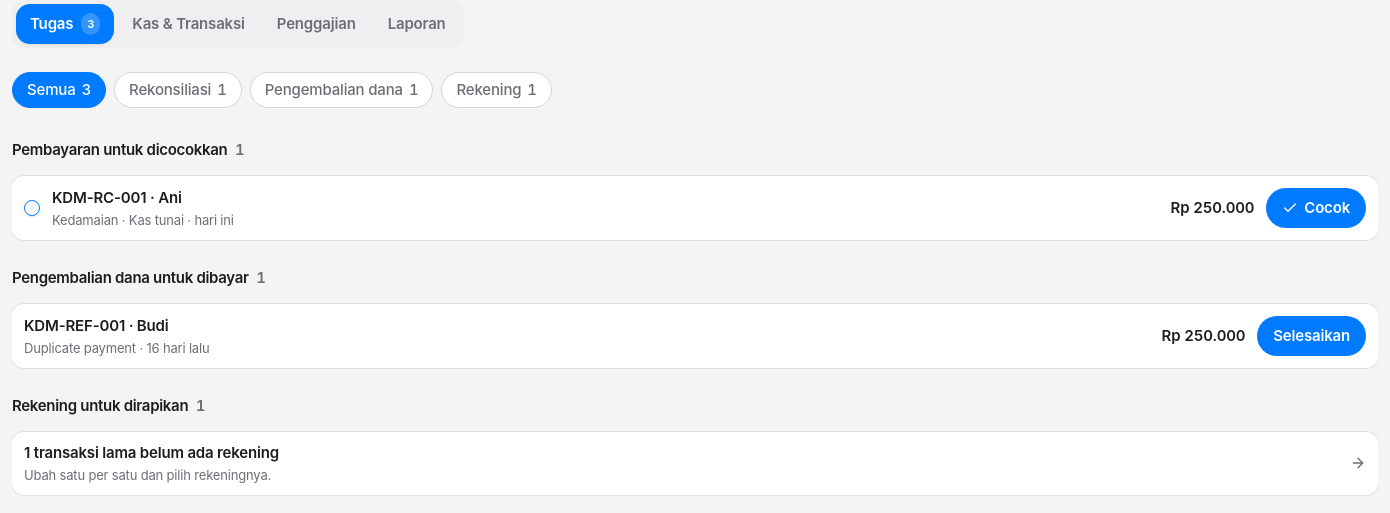
Test: FinanceWorkspace › opens the ledger filtered to unassigned rows from Tasks
What coordinates should you click on to do the following:
click the button "1 transaksi lama belum ada rekening"
I would click on:
 (151, 452)
Its box is [12,432,1378,495].
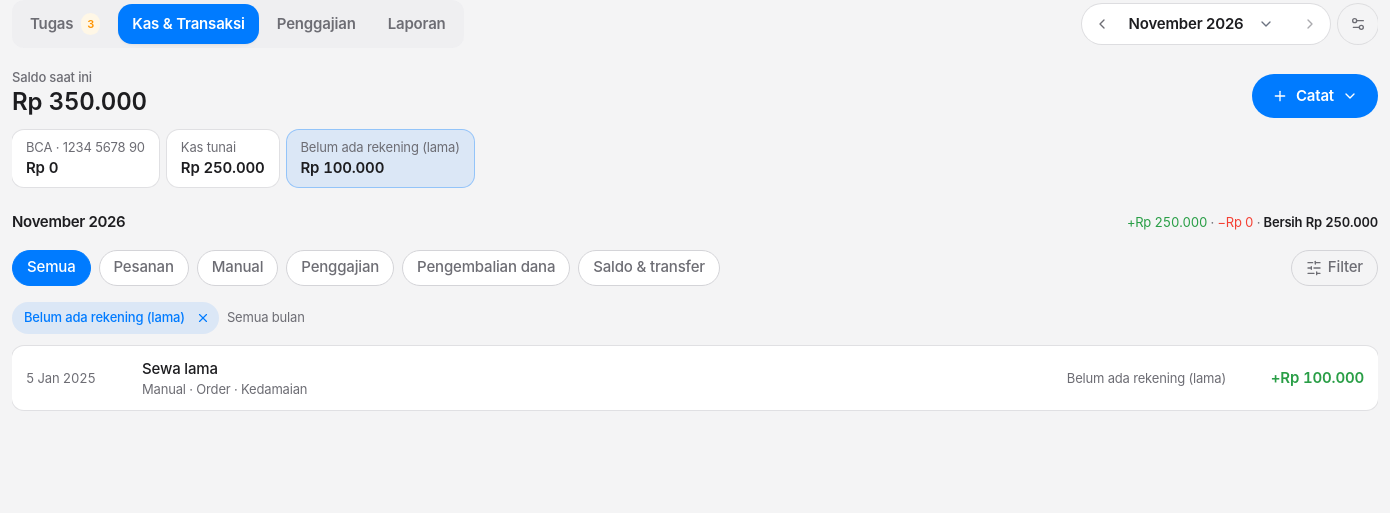
Check: the button named "Hapus filter rekening" is shown, box [191,306,215,330]
Check: the text "Semua bulan" is shown, box [227,308,305,327]
Check: the text "Sewa lama" is shown, box [142,359,218,378]
